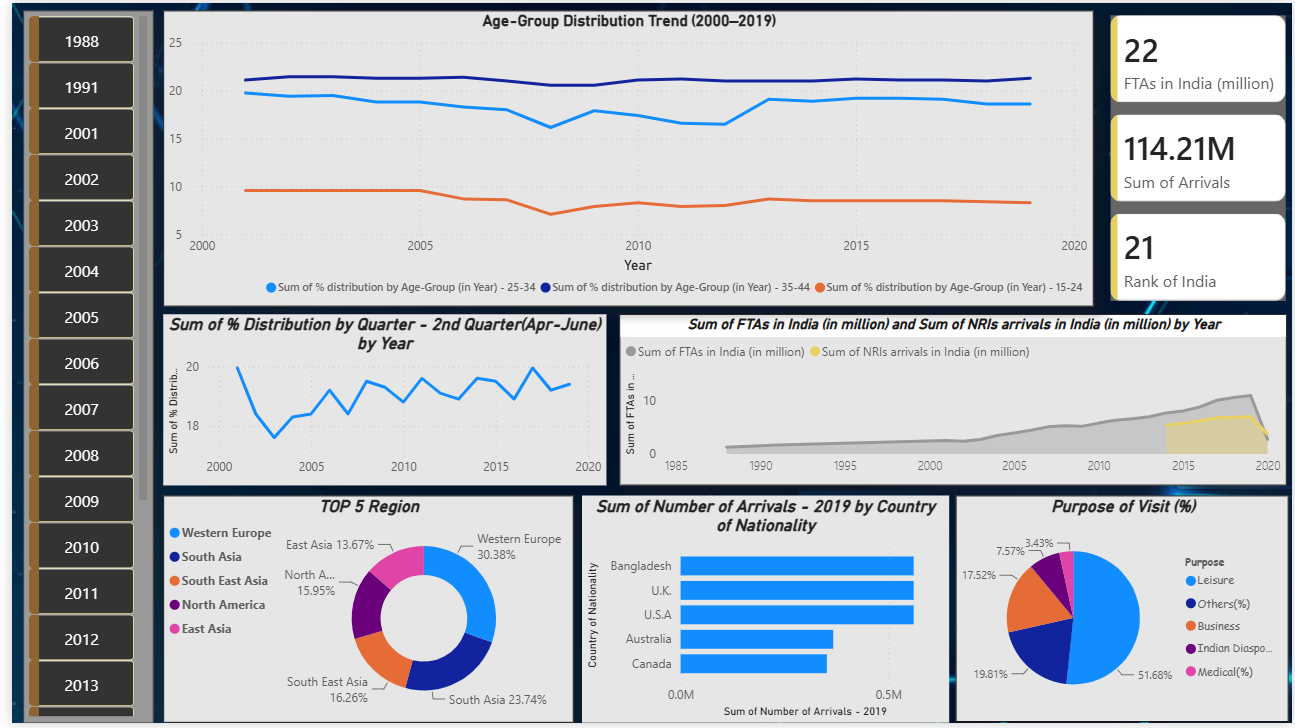

The page's visual inventory and layout, read from the dashboard file:
{"tool":"powerbi","page":{"name":"Page 1","canvas":[1280,720],"ordinal":0},"visuals":[{"type":"advancedSlicerVisual","fields":{"Values":["Sheet1.Year"]},"box":[11.4,7.1,130,712.9],"z":0},{"type":"lineChart","fields":{"Category":["Sheet1.Year"],"Y":["Sum(Sheet1.FTAs in India (in million))","Sum(Sheet1.NRIs arrivals in India (in million))"]},"box":[607.5,311.2,667.5,171.2],"z":1},{"type":"cardVisual","fields":{"Data":["CountNonNull(Sheet1.FTAs in India (in million))","Sum(Sheet3.Arrivals)","CountNonNull(Sheet4.Rank of India)"]},"box":[1094.3,7.1,185.7,295.7],"z":2},{"type":"areaChart","title":"Age-Group Distribution Trend (2000–2019)","fields":{"Category":["Sheet2.Year"],"Y":["Sum(Sheet2.% distribution by Age-Group (in Year) - 25-34)","Sum(Sheet2.% distribution by Age-Group (in Year) - 35-44)","Sum(Sheet2.% distribution by Age-Group (in Year) - 15-24)"]},"box":[151.4,7.1,930,295.7],"z":3},{"type":"lineChart","fields":{"Category":["Sheet3.Year"],"Y":["Sum(Sheet3.% Distribution by Quarter - 2nd Quarter(Apr-June))"]},"box":[151.4,311.4,442.9,171.4],"z":4},{"type":"donutChart","title":"TOP 5 Region","fields":{"Category":["Sheet5.Region"],"Y":["Sum(Sheet5.Arrivals (in numbers))"]},"box":[151.4,492.9,410,227.1],"z":5},{"type":"barChart","fields":{"Category":["Sheet7.Country of Nationality"],"Y":["Sum(Sheet7.Number of Arrivals - 2019)"]},"box":[570,492.9,367.1,227.1],"z":6},{"type":"pieChart","title":"Purpose of Visit (%)","fields":{"Category":["Sheet5.Attribute"],"Y":["Sum(Sheet5.Value)"]},"box":[944,492.5,333,226.2],"z":7}]}

Visuals, with their boxes in screenshot pixels (x1, y1, x2, y2), scaled from the page's 1280x720 canvas onto the 1295x728 screenshot:
advancedSlicerVisual - Sheet1.Year: select_region(12, 7, 143, 727)
lineChart - Sheet1.Year x Sum(Sheet1.FTAs in India (in million)): select_region(615, 315, 1290, 488)
cardVisual - CountNonNull(Sheet1.FTAs in India (in million)) x Sum(Sheet3.Arrivals): select_region(1107, 7, 1294, 306)
"Age-Group Distribution Trend (2000–2019)" areaChart: select_region(153, 7, 1094, 306)
lineChart - Sheet3.Year x Sum(Sheet3.% Distribution by Quarter - 2nd Quarter(Apr-June)): select_region(153, 315, 601, 488)
"TOP 5 Region" donutChart: select_region(153, 498, 568, 727)
barChart - Sheet7.Country of Nationality x Sum(Sheet7.Number of Arrivals - 2019): select_region(577, 498, 948, 727)
"Purpose of Visit (%)" pieChart: select_region(955, 498, 1292, 727)
